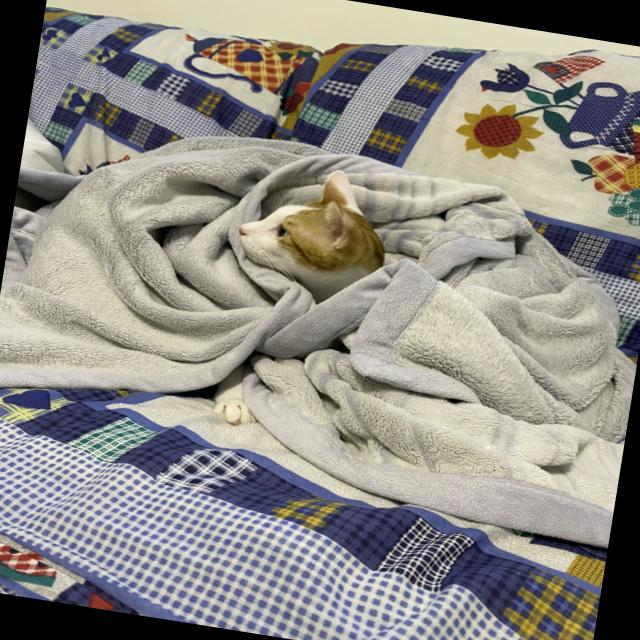cat1: (222, 154, 424, 322)
